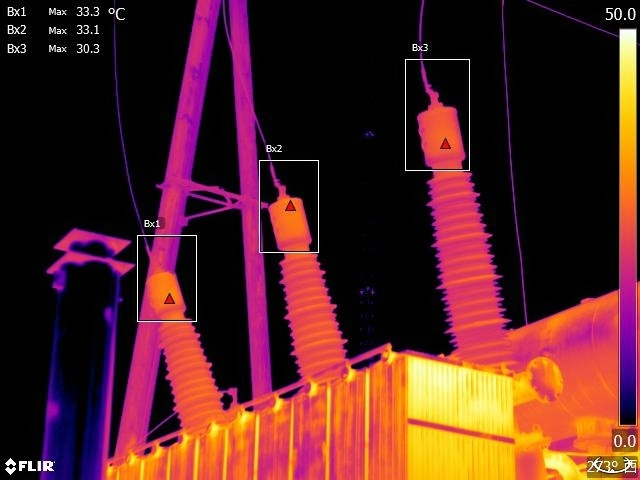oil conservator: (445, 279, 638, 446)
transformer: (97, 332, 544, 480)
tube: (416, 91, 512, 364), (265, 181, 360, 385), (147, 266, 236, 433)
